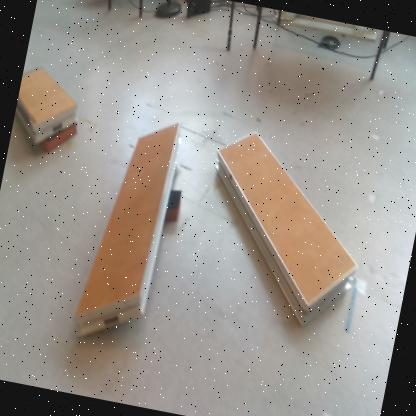Stairs: (216, 132, 358, 328), (73, 124, 181, 337), (16, 65, 77, 144)
